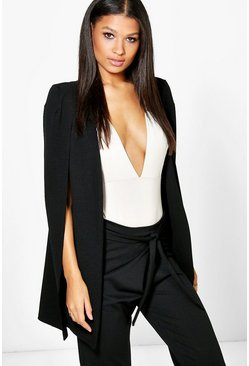F_W_suit jacket: (36, 72, 195, 324)
